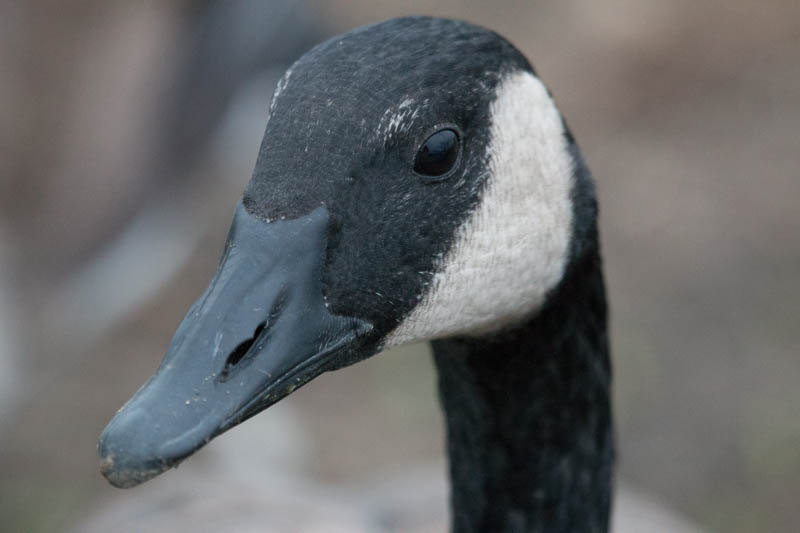goose-head: (96, 14, 599, 489)
